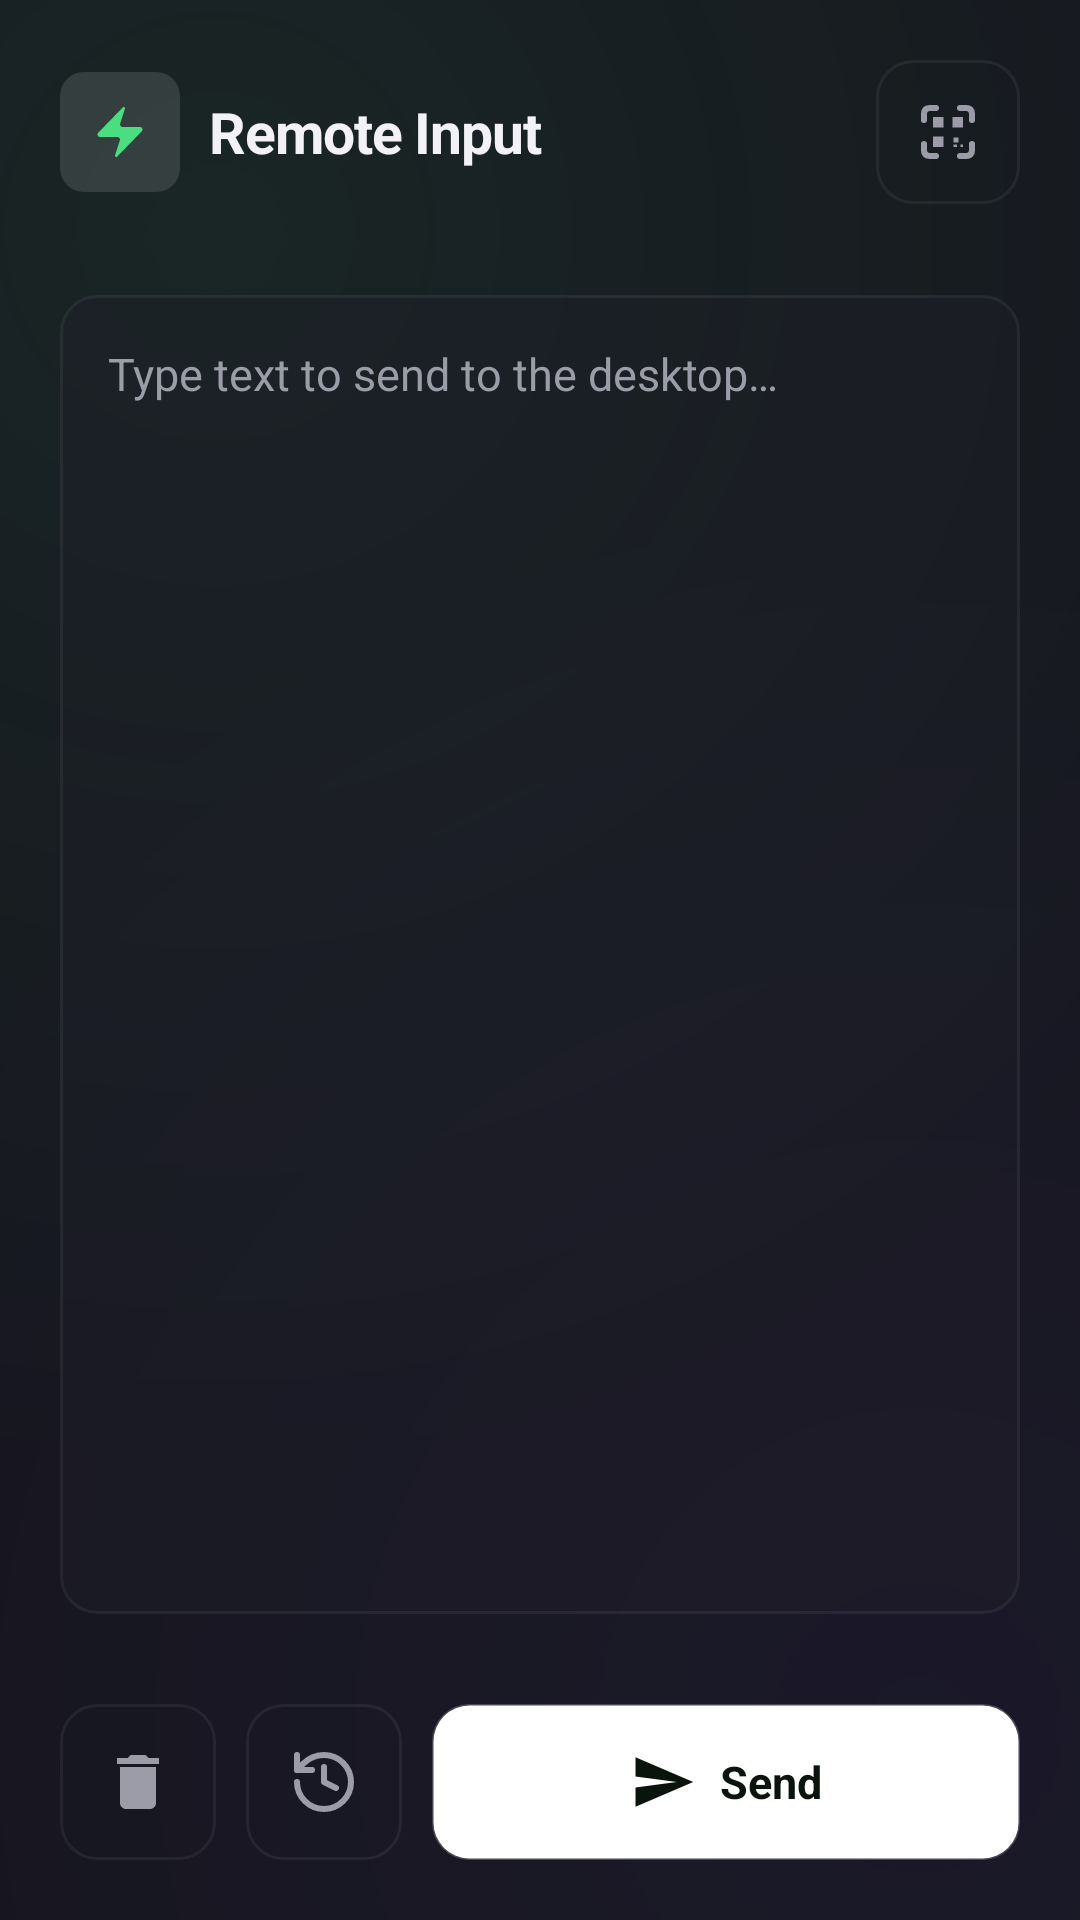

Named icons in this screenshot (1080x1920) and their centers, [x,y]:
bolt: [120,132]
Clear input: [138,1782]
History: [324,1782]
Scan QR code: [948,132]
